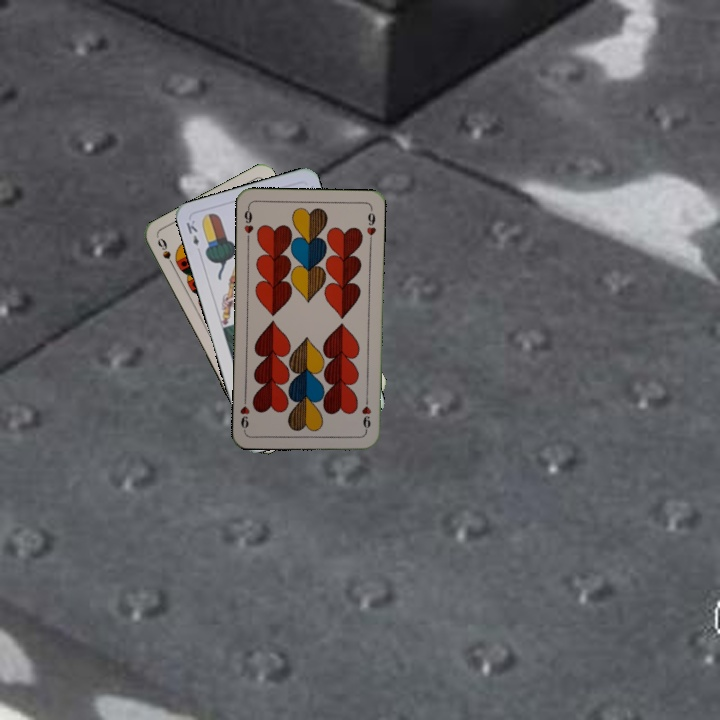EK: (182, 216, 202, 248)
H9: (240, 203, 256, 244), (358, 394, 373, 434)
S9: (153, 234, 178, 272)
